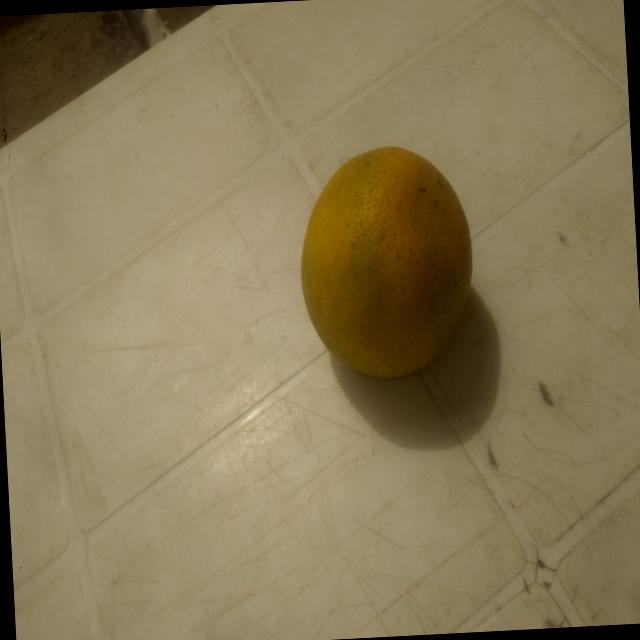agrume: (283, 107, 524, 442)
